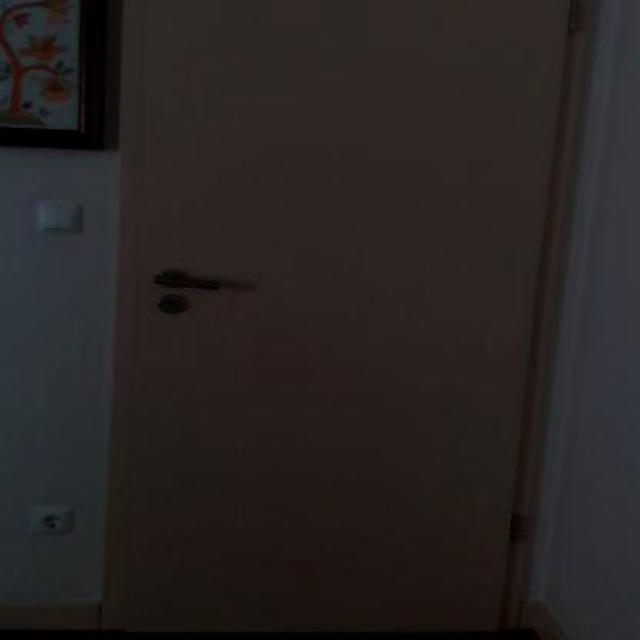door: (100, 0, 594, 634)
